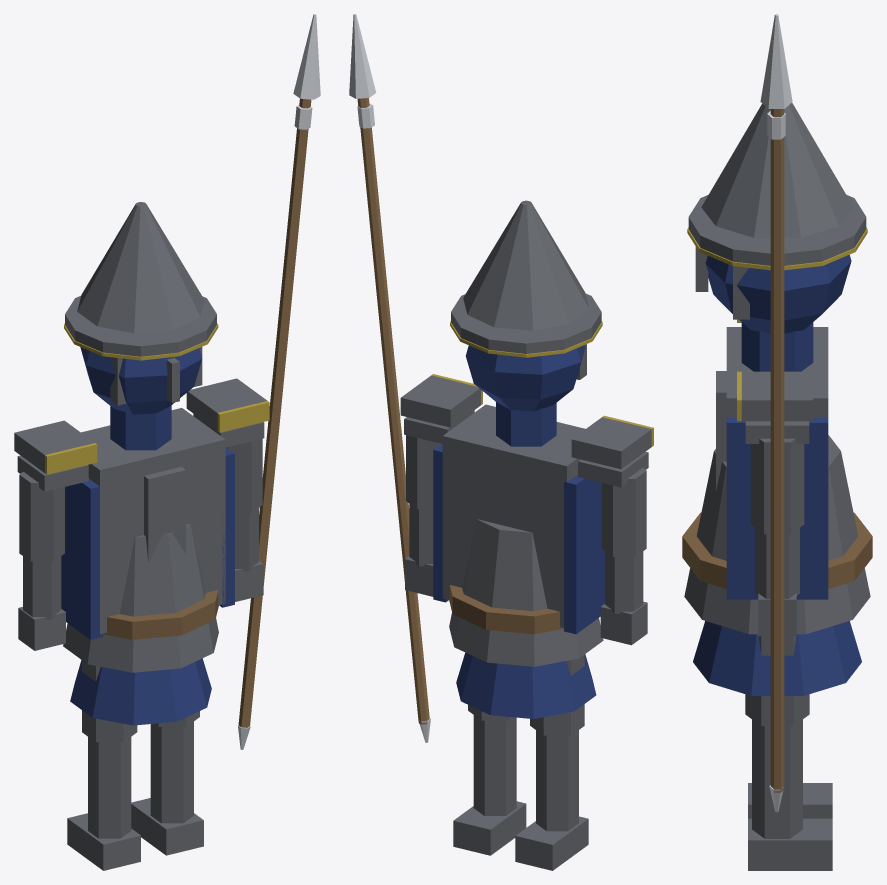
Rendered from spearman.glb.
3 renders of one model, left to right at view 1: azimuth 30°, elevation 25°; view 2: azimuth 150°, elevation 25°; view 3: azimuth 270°, elevation 25°, orthographic. The views are drawn at different scales.
Parts seen in each view (by area): view 1: Spearman; view 2: Spearman; view 3: Spearman.
Part boxes in pixels (x1,y1,x2,y2): Spearman: (14, 14, 320, 870); Spearman: (349, 14, 653, 870); Spearman: (682, 14, 872, 870).
Size of the model in its own units: 0.9302 by 2.41 by 0.45.
